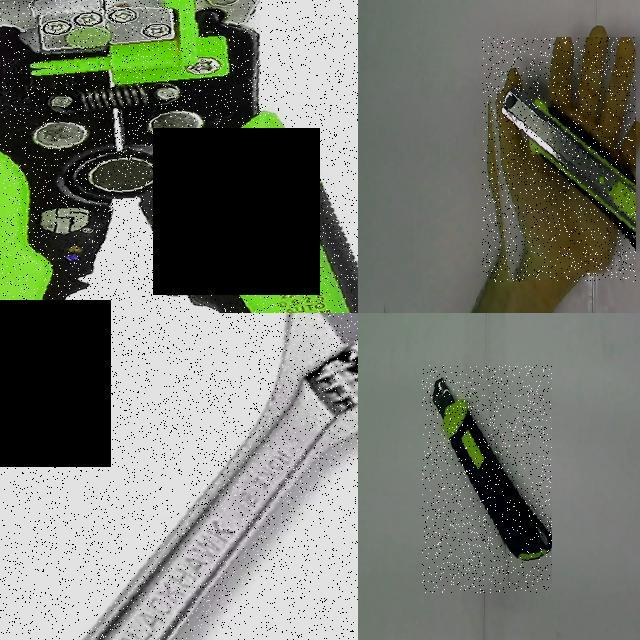estilete: (433, 379, 551, 559), (501, 90, 636, 244)
